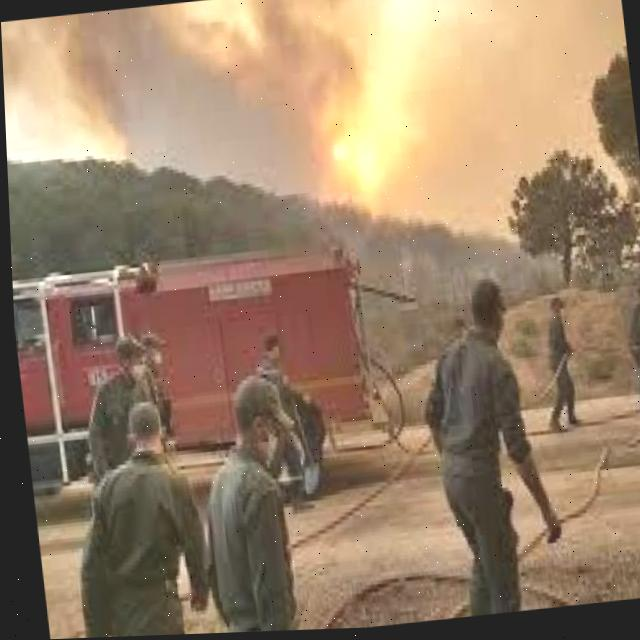emergency: (8, 221, 387, 489)
